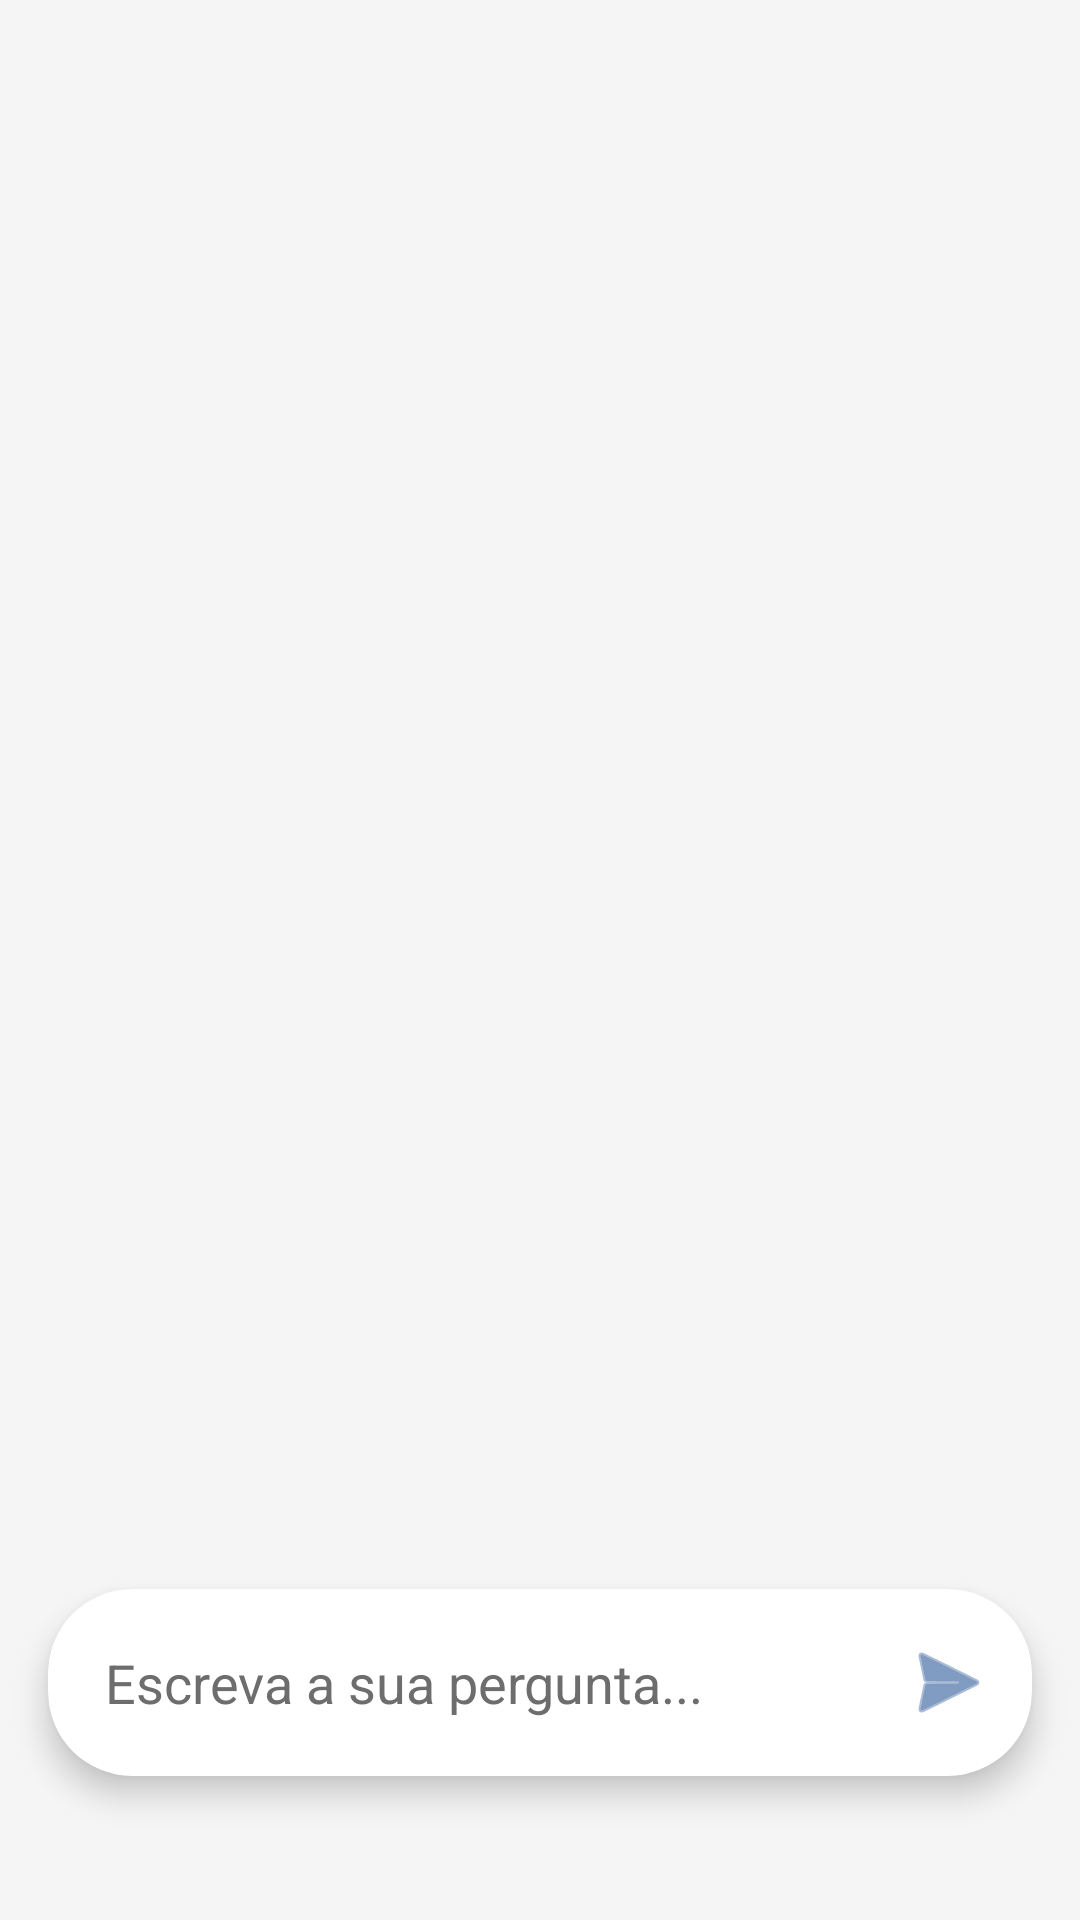

Icons on this 1080px×1920px Android screen, each with its box as (x1, y1, x2, y2):
Enviar Pergunta: (918, 1652, 980, 1713)
